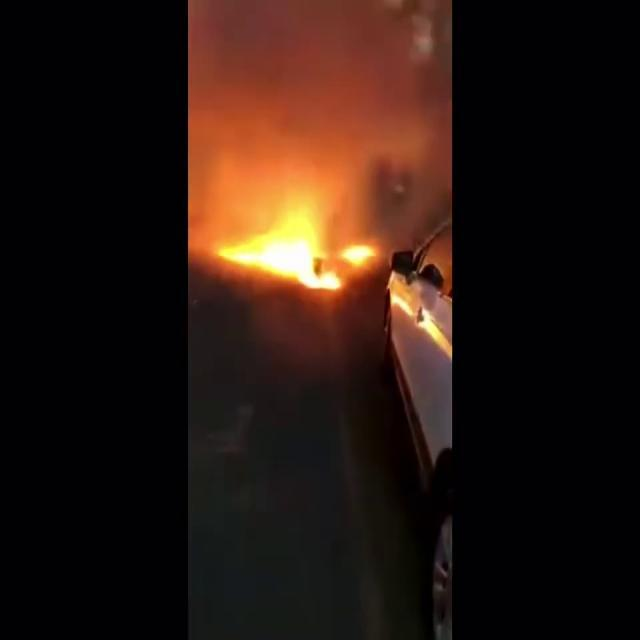Fire: (216, 198, 378, 298)
Smoke: (188, 0, 451, 212)
